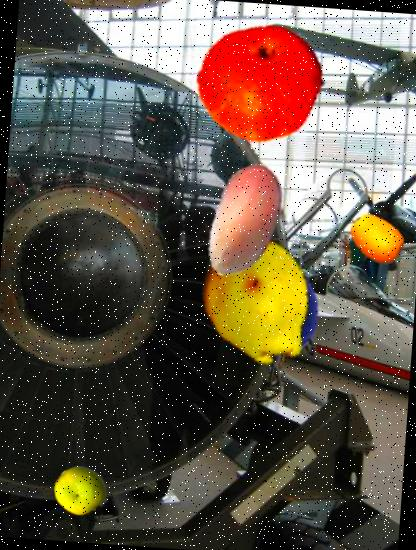Clementine: (192, 13, 333, 154)
Hazelnut: (180, 156, 308, 284)
Kumquats: (346, 208, 408, 270)
Plum: (196, 233, 330, 366)
Pomelo: (53, 463, 107, 517)
Quince: (184, 229, 327, 372)
